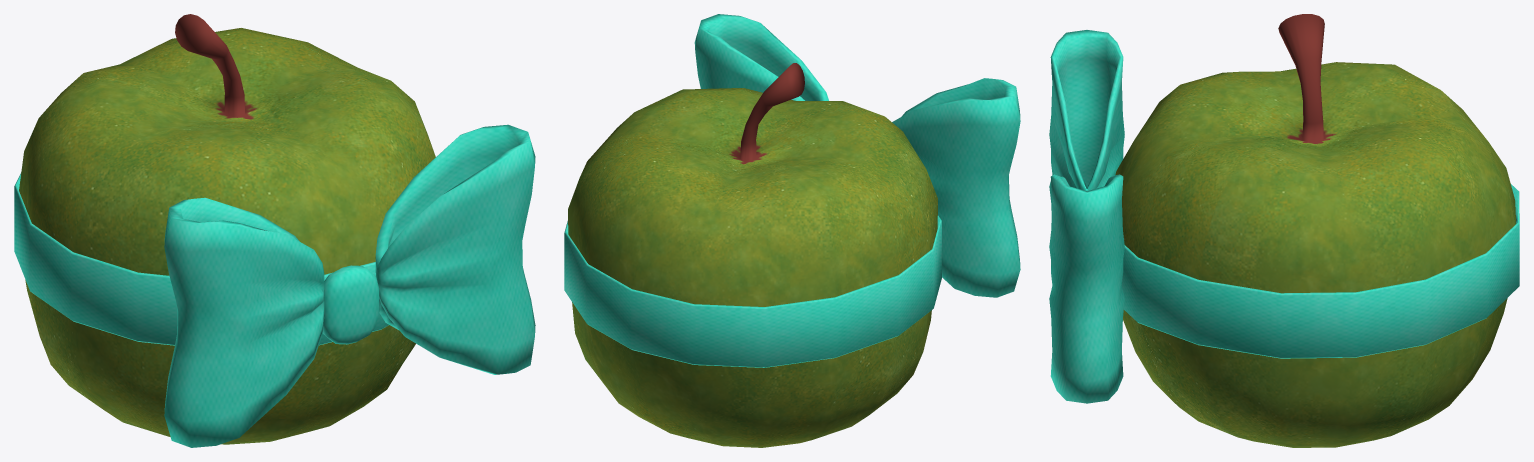
The model's file is AppleWithBow.glb.
3 views of the same model, side by side, from view 1: azimuth 30°, elevation 25°; view 2: azimuth 150°, elevation 25°; view 3: azimuth 270°, elevation 25° (orthographic). The views are drawn at different scales.
Parts seen in each view (by area): view 1: Sphere, Circle, Torus, Cube.001; view 2: Sphere, Circle, Torus; view 3: Sphere, Torus, Circle.
Part boxes in pixels (left/top/right/bottom): Sphere: left=19, top=14, right=435, bottom=444; Circle: left=164, top=124, right=535, bottom=447; Torus: left=14, top=172, right=388, bottom=345; Cube.001: left=322, top=265, right=379, bottom=344; Sphere: left=568, top=63, right=937, bottom=447; Circle: left=694, top=14, right=1020, bottom=297; Torus: left=564, top=215, right=941, bottom=367; Sphere: left=1115, top=14, right=1516, bottom=447; Torus: left=1121, top=184, right=1519, bottom=358; Circle: left=1049, top=30, right=1124, bottom=403.
Size of the model in its own units: 0.9995 by 1.04 by 1.16.
2 materials, 2 textured.
